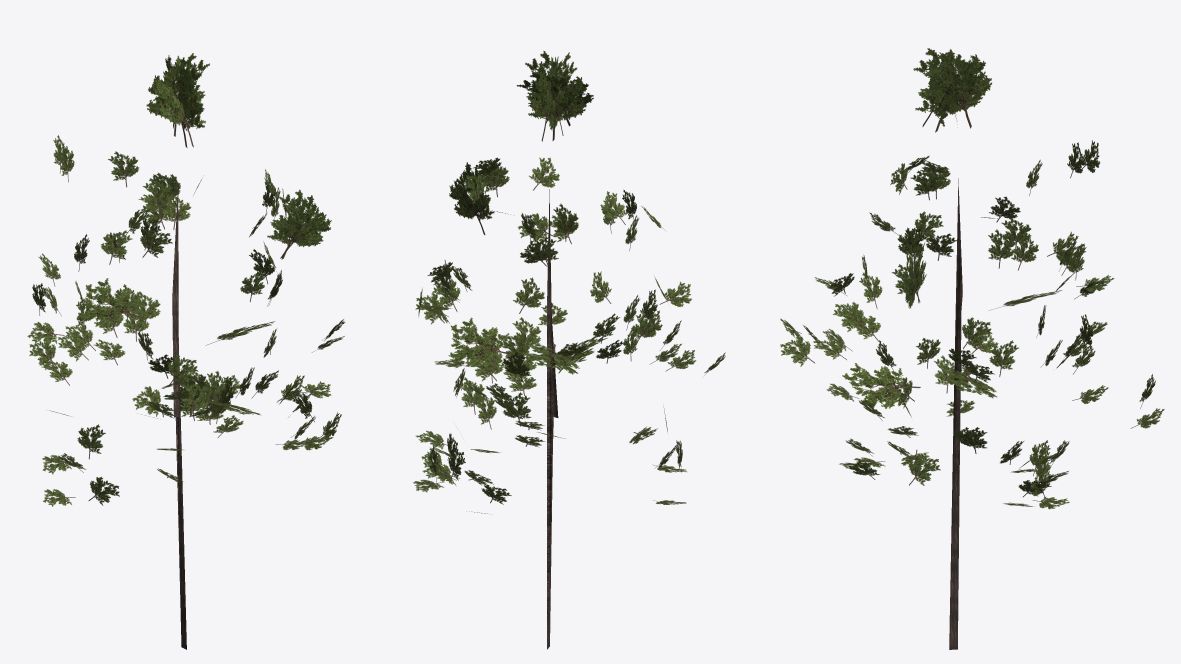
The model's file is pine_0_lod2.glb.
3 renders of one model, left to right at view 1: azimuth 30°, elevation 25°; view 2: azimuth 150°, elevation 25°; view 3: azimuth 270°, elevation 25°, orthographic.
Parts seen in each view (by area): view 1: PineTree; view 2: PineTree; view 3: PineTree.
Boxes of the visible parts, x1,y1,x2,y2 form: PineTree: (27,53,344,649); PineTree: (413,50,725,649); PineTree: (780,48,1164,649).
Size of the model in its own units: 9.1 by 17.66 by 10.39.
Materials: 2 (2 with a texture image).
